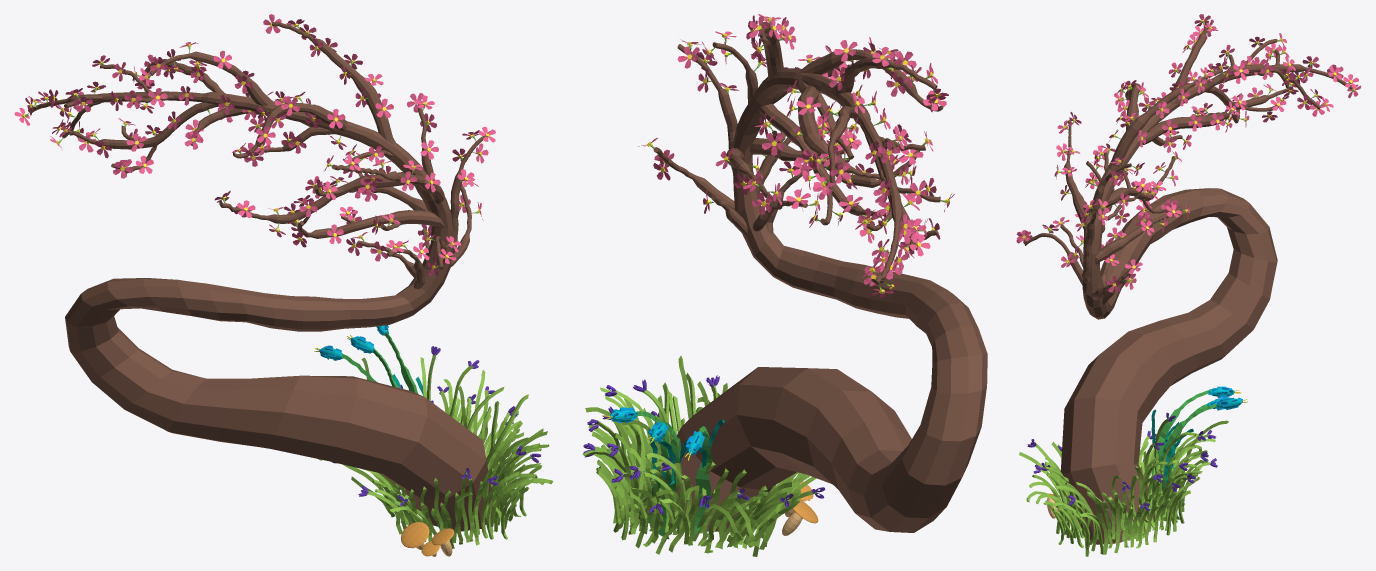
Rendered from sakura_bonsai_gronert.glb.
3 renders of one model, left to right at view 1: azimuth 30°, elevation 25°; view 2: azimuth 150°, elevation 25°; view 3: azimuth 270°, elevation 25°, orthographic. The views are drawn at different scales.
Parts seen in each view (by area): view 1: group195789084, group1804149630, group407375954, group1956134034, group1403163454, group1996900672, group2020589638, group1698979857, group1742158213; view 2: group195789084, group827768263, group1956134034, group2020589638, group407375954, group1996900672, group1742158213, group321400890, group1804149630, group1595500365, group574127214, group1187671191 (+3 smaller); view 3: group195789084, group1804149630, group827768263, group978351238, group1698979857, group1996900672, group1742158213, group574127214, group1956134034, group1403163454, group321400890, group38701402 (+1 smaller).
Part boxes in pixels (x1=…): group195789084: x1=28, y1=91, x2=492, y2=531; group1804149630: x1=272, y1=21, x2=395, y2=144; group407375954: x1=297, y1=210, x2=444, y2=238; group1956134034: x1=219, y1=172, x2=417, y2=223; group1403163454: x1=69, y1=102, x2=218, y2=149; group1996900672: x1=150, y1=51, x2=274, y2=106; group2020589638: x1=233, y1=103, x2=347, y2=158; group1698979857: x1=331, y1=164, x2=444, y2=204; group1742158213: x1=450, y1=131, x2=489, y2=253; group195789084: x1=638, y1=68, x2=987, y2=532; group827768263: x1=798, y1=73, x2=880, y2=179; group1956134034: x1=759, y1=103, x2=886, y2=217; group2020589638: x1=798, y1=49, x2=943, y2=111; group407375954: x1=749, y1=138, x2=919, y2=187; group1996900672: x1=833, y1=57, x2=937, y2=96; group1742158213: x1=677, y1=44, x2=737, y2=172; group321400890: x1=690, y1=426, x2=712, y2=534; group1804149630: x1=759, y1=22, x2=783, y2=80; group1595500365: x1=653, y1=147, x2=734, y2=209; group574127214: x1=828, y1=106, x2=855, y2=182; group1187671191: x1=658, y1=422, x2=680, y2=536; group195789084: x1=1060, y1=64, x2=1352, y2=544; group1804149630: x1=1108, y1=68, x2=1222, y2=170; group827768263: x1=1137, y1=112, x2=1228, y2=144; group978351238: x1=1094, y1=206, x2=1181, y2=264; group1698979857: x1=1064, y1=119, x2=1089, y2=230; group1996900672: x1=1170, y1=23, x2=1208, y2=104; group1742158213: x1=1082, y1=208, x2=1097, y2=282; group574127214: x1=1197, y1=64, x2=1289, y2=95; group1956134034: x1=1106, y1=156, x2=1175, y2=207; group1403163454: x1=1205, y1=86, x2=1293, y2=109; group321400890: x1=1151, y1=390, x2=1209, y2=492; group38701402: x1=1157, y1=404, x2=1216, y2=505.
Bounding box in the file's own units: 0.9684 × 1.21 × 0.8691.
